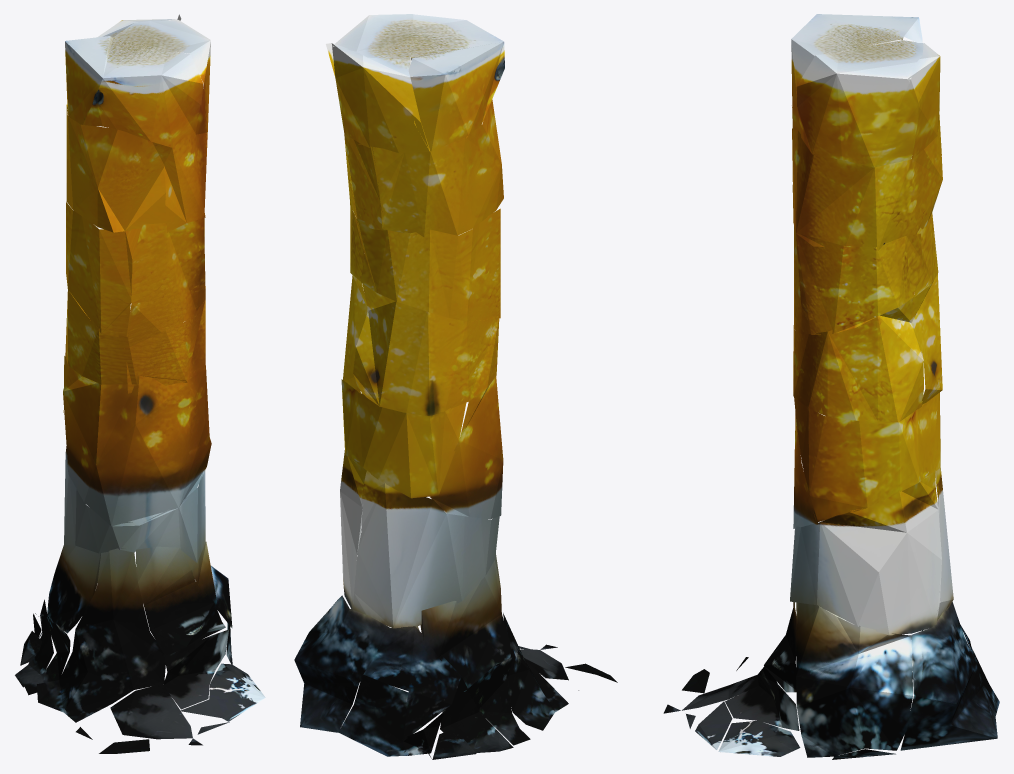
The model's file is cigarette_shorter4.glb.
3 views of the same model, side by side, from view 1: azimuth 30°, elevation 25°; view 2: azimuth 150°, elevation 25°; view 3: azimuth 270°, elevation 25° (orthographic). The views are drawn at different scales.
Parts seen in each view (by area): view 1: tripo_node_c5ac0d31-c7cd-43ed-b644-0830fcdc9b5b; view 2: tripo_node_c5ac0d31-c7cd-43ed-b644-0830fcdc9b5b; view 3: tripo_node_c5ac0d31-c7cd-43ed-b644-0830fcdc9b5b.
Part boxes in pixels (x1=…): tripo_node_c5ac0d31-c7cd-43ed-b644-0830fcdc9b5b: x1=15, y1=14, x2=265, y2=753; tripo_node_c5ac0d31-c7cd-43ed-b644-0830fcdc9b5b: x1=294, y1=14, x2=617, y2=759; tripo_node_c5ac0d31-c7cd-43ed-b644-0830fcdc9b5b: x1=663, y1=14, x2=999, y2=759.
Bounding box in the file's own units: 0.3524 × 0.9961 × 0.4383.
Materials: 1 (1 with a texture image).
